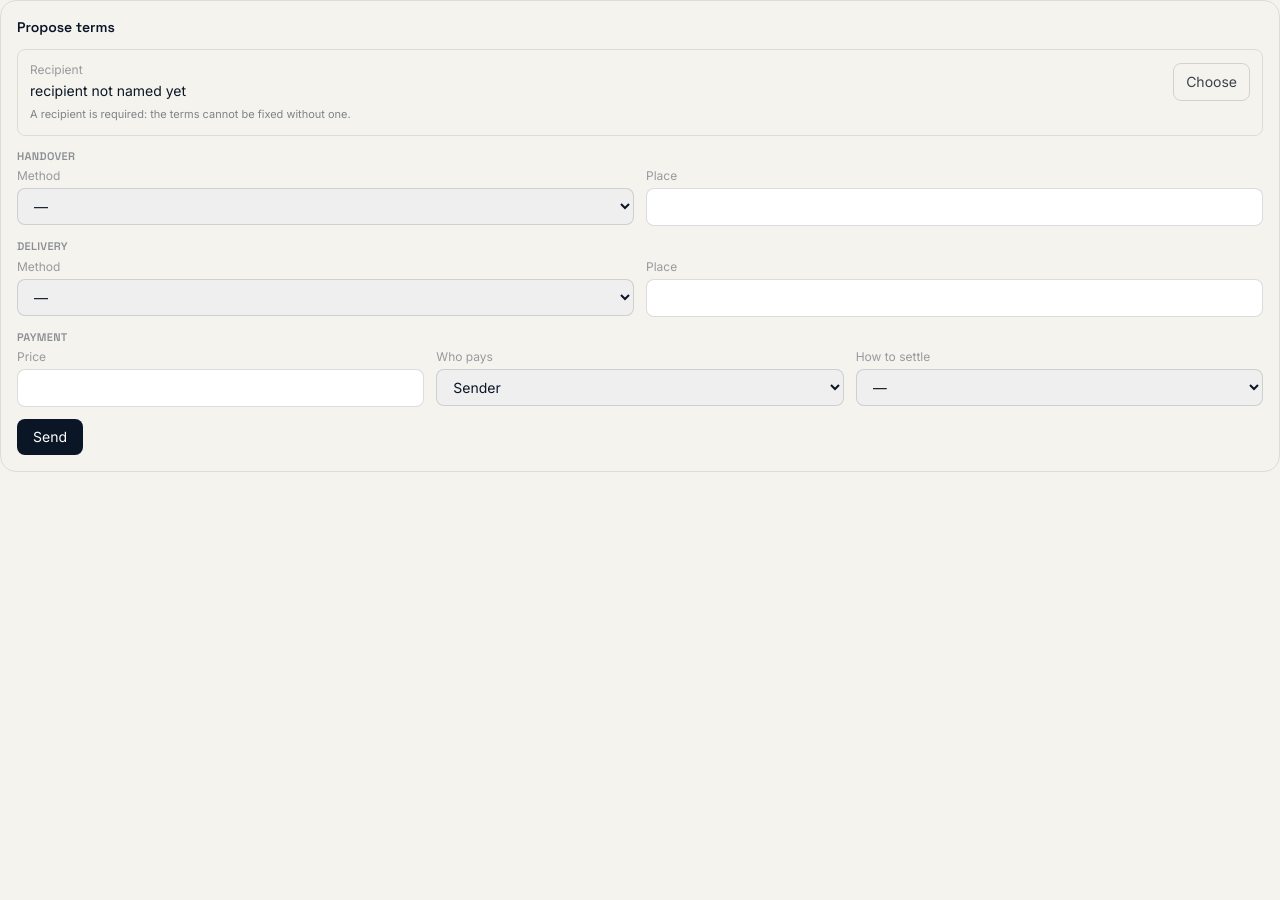
Scenario: TermsProposeForm › reports a refusal instead of pretending it sent
This screenshot has width=1280, height=900.
Type "100" into the number field.
click(221, 388); type("100")  # box [17,369,424,407]
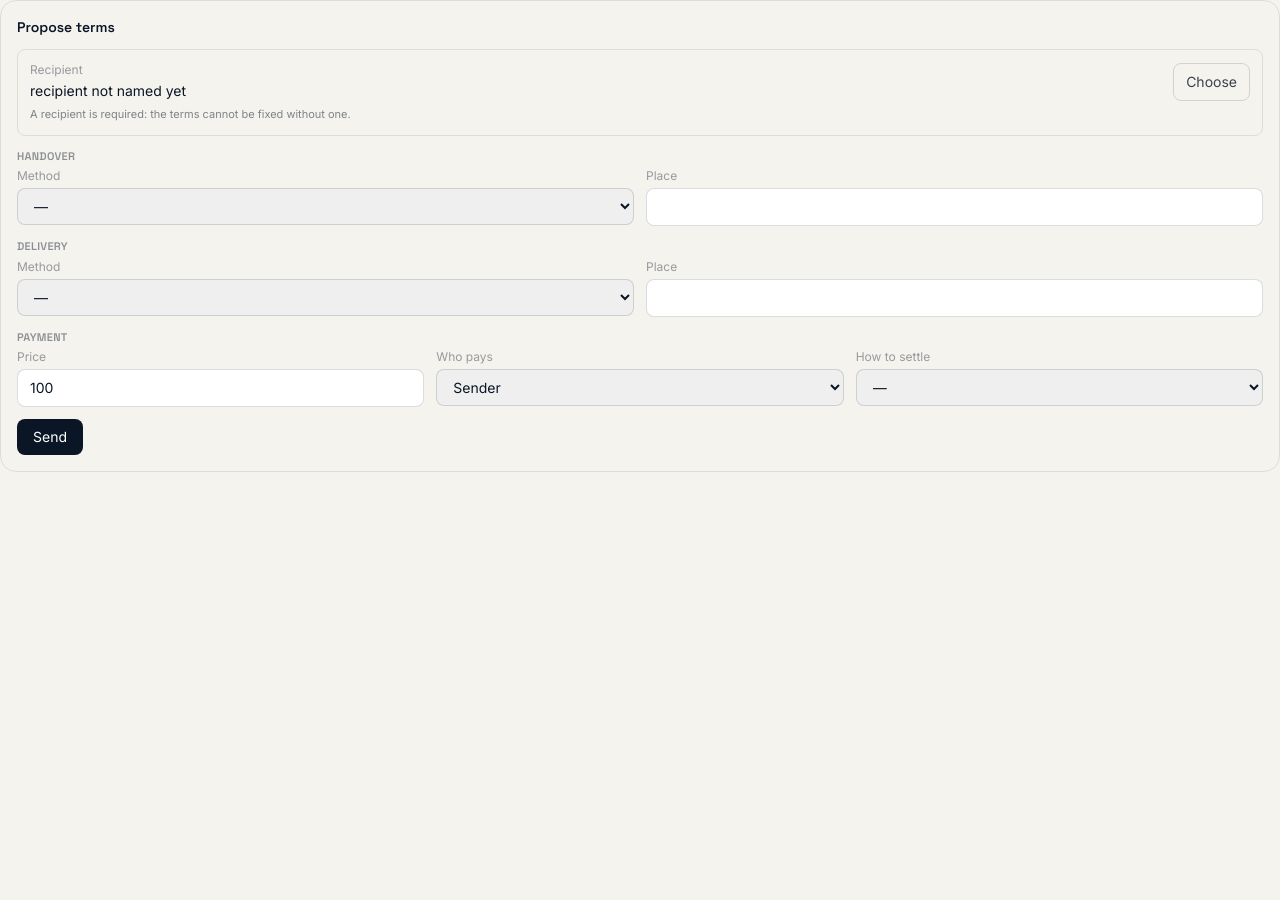
Select "Cash on delivery" in the dropdown labelled "How to settle" at coordinates (1059, 388), box [856,369,1263,406]
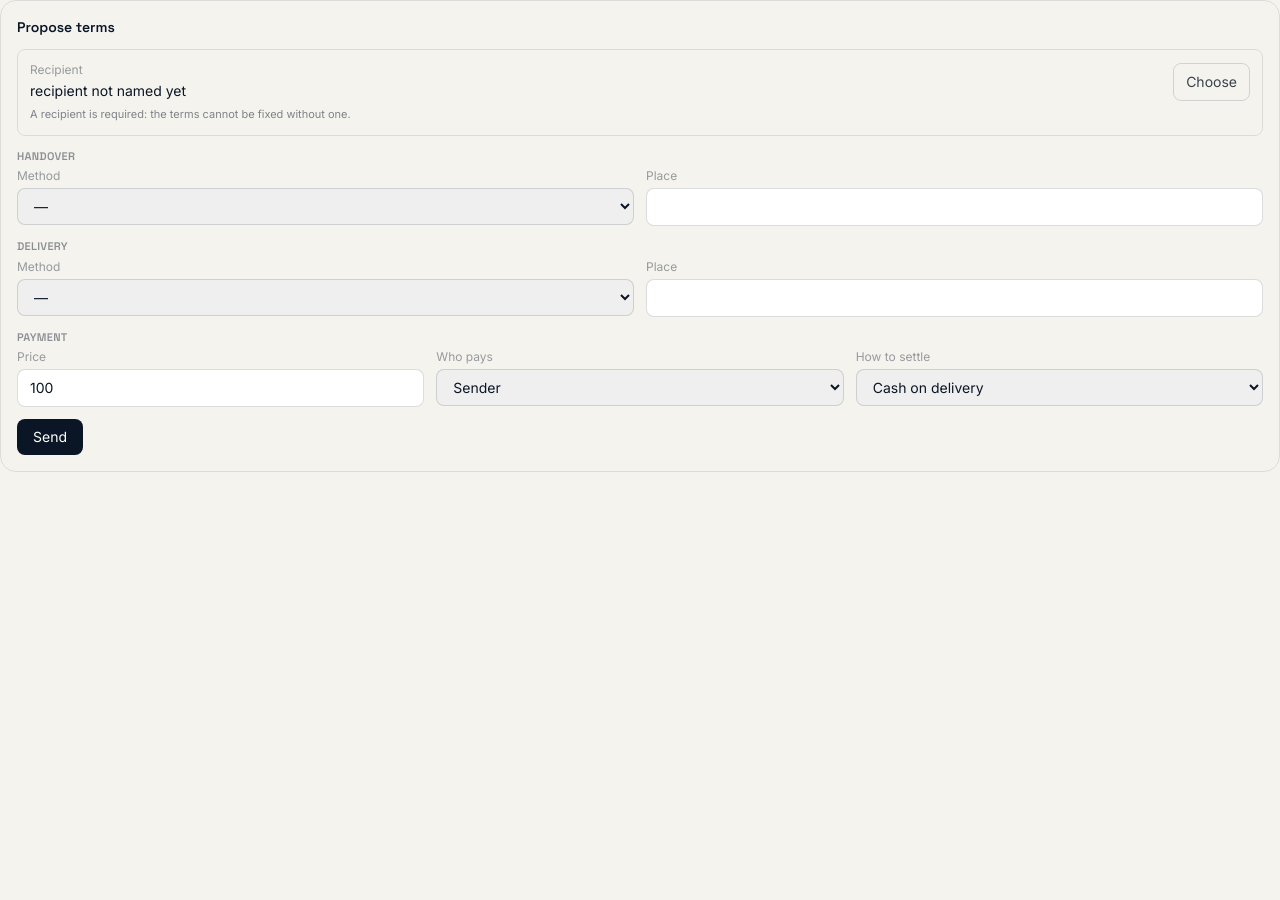
Click the button "Send".
click(50, 437)  # box [17,419,83,455]
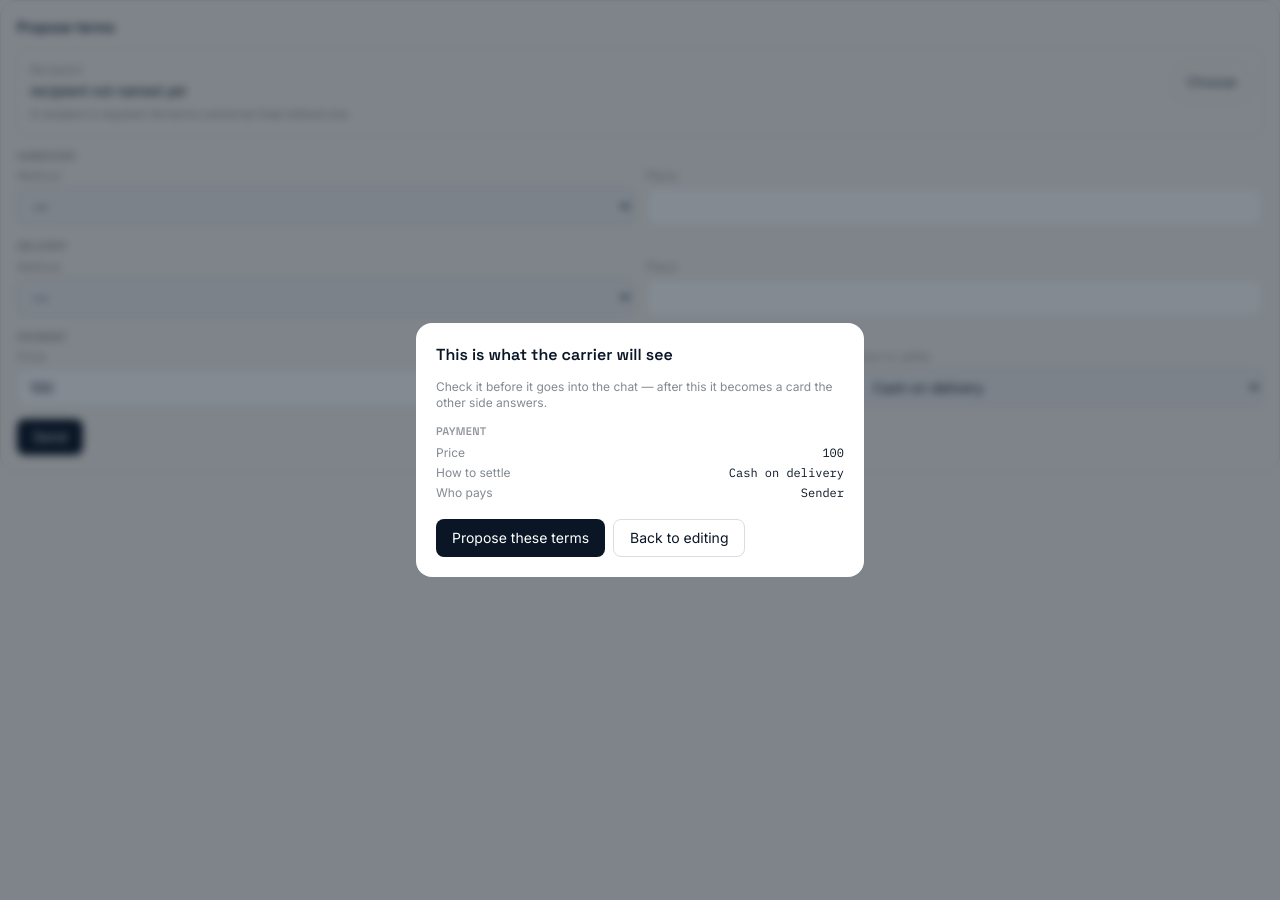
Click the button "Propose these terms".
click(521, 538)  # box [436,519,605,557]
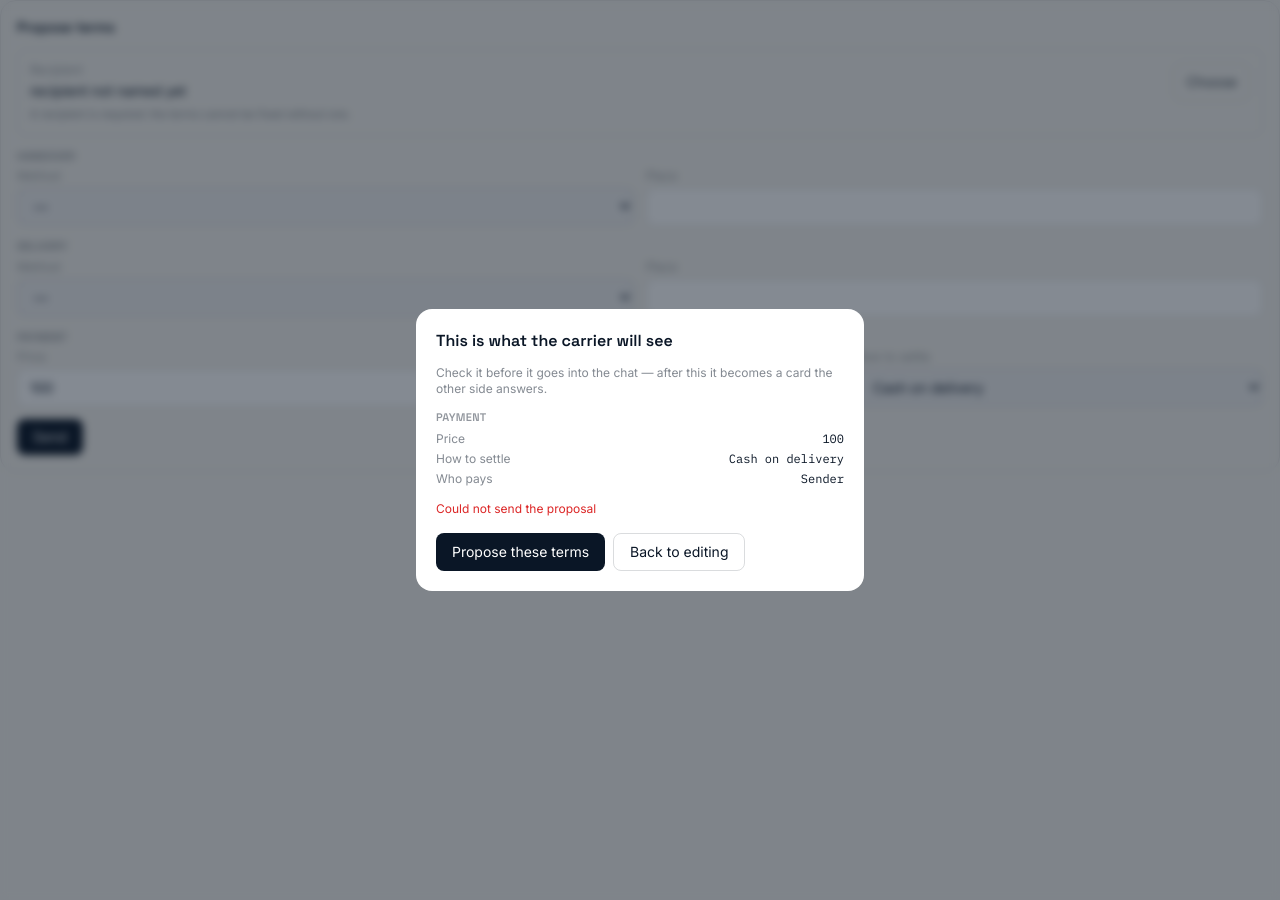
Result: the text "Could not send the proposal" is shown at [436,501,596,516]
